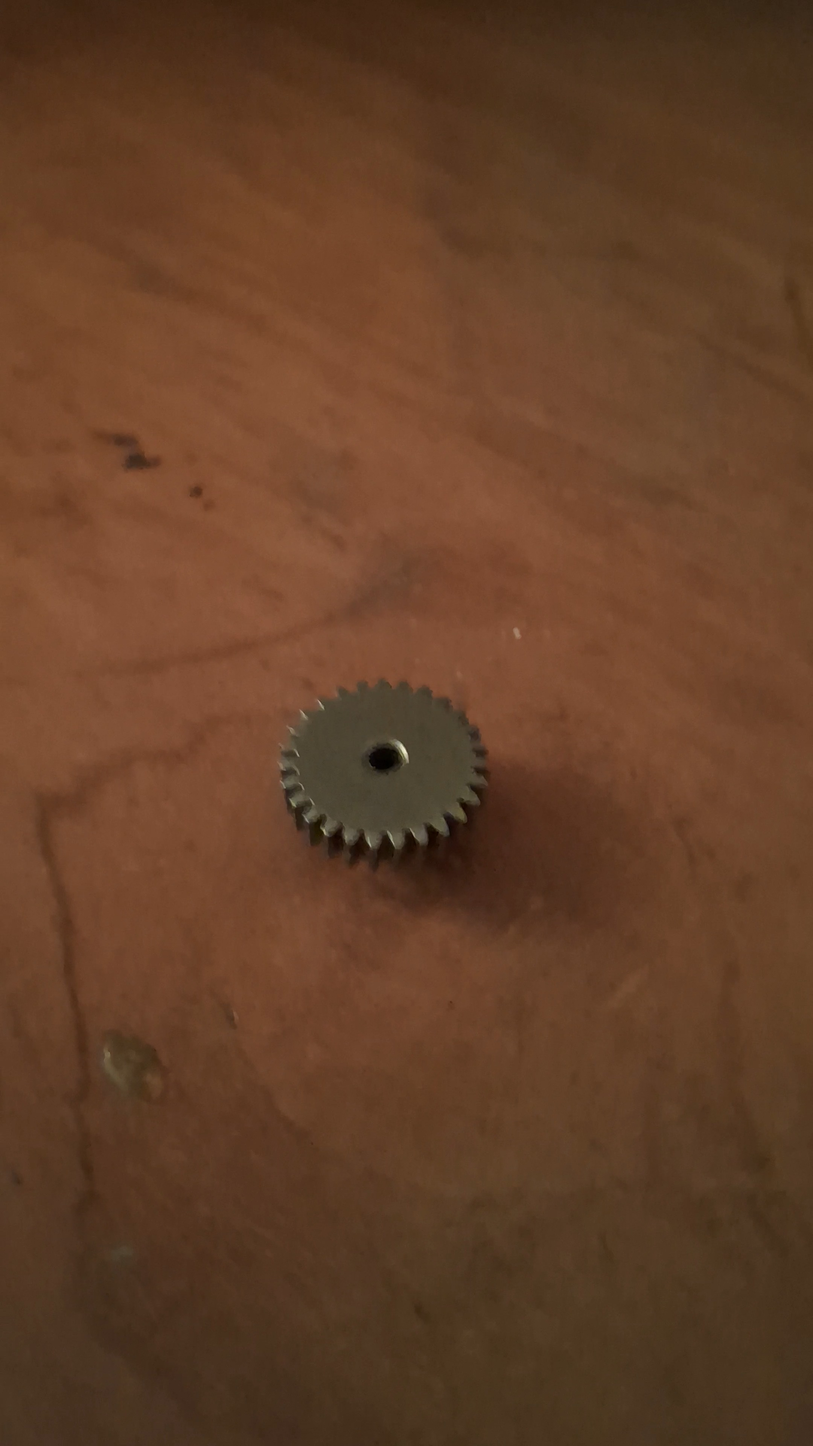spur gear: (280, 681, 486, 862)
